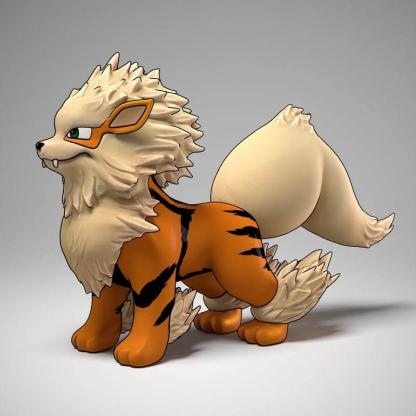Arcanine: (46, 52, 378, 372)
